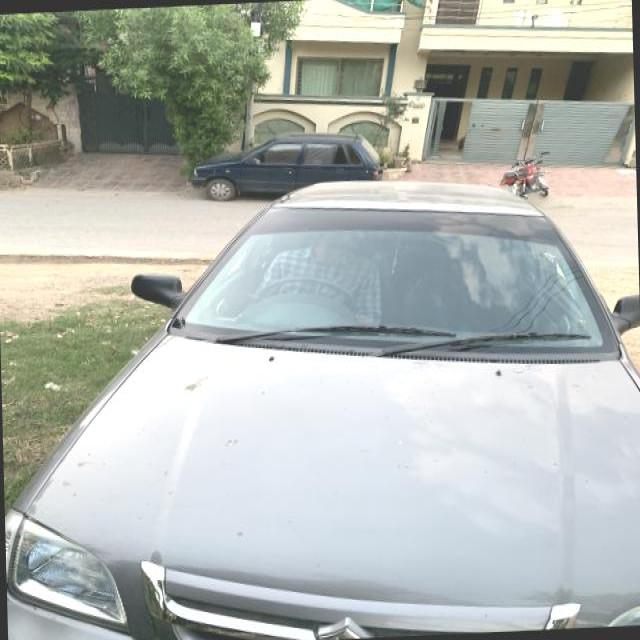no-seatbelt: (261, 231, 390, 333)
